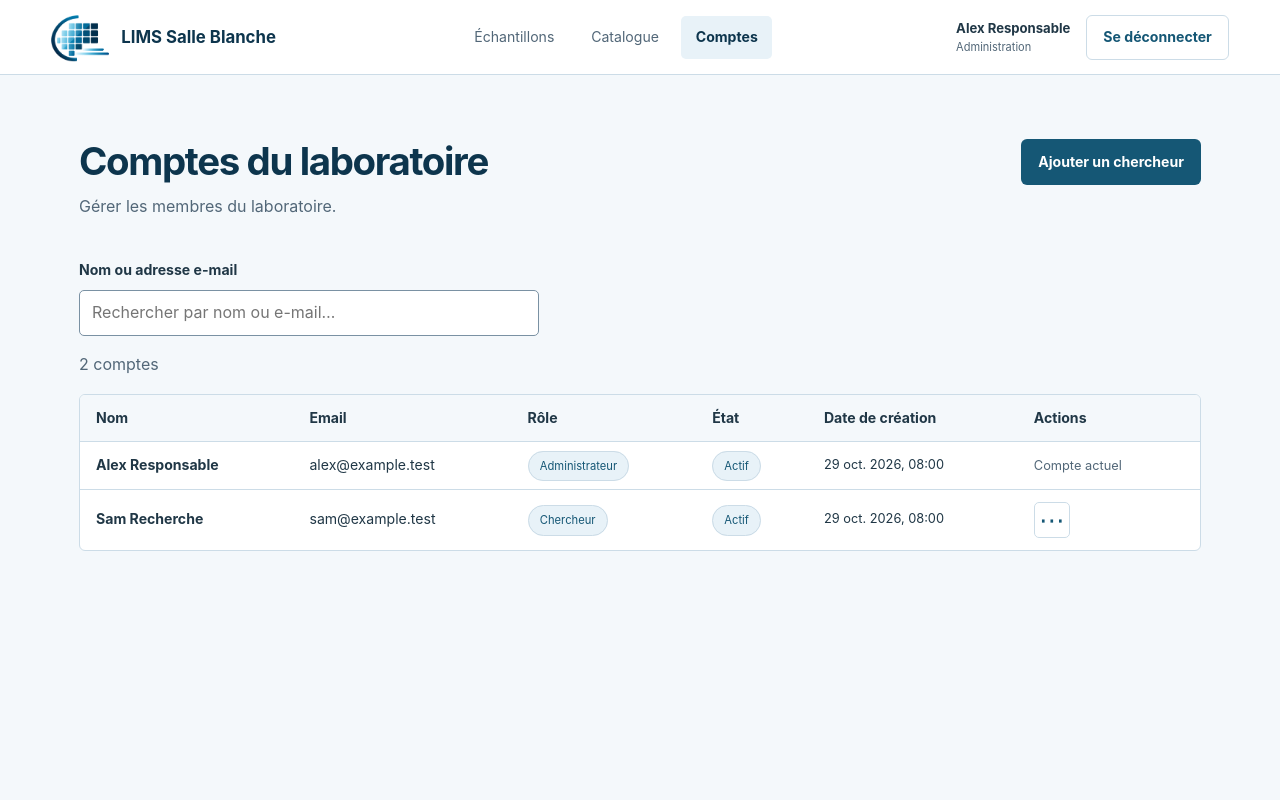
Scenario: Administration des comptes › gère le refus de statut 403 sans modifier la liste
This screenshot has width=1280, height=800.
Step 1. Click the button "⋯" → click(1052, 520), box x1=1034 y1=502 x2=1070 y2=538
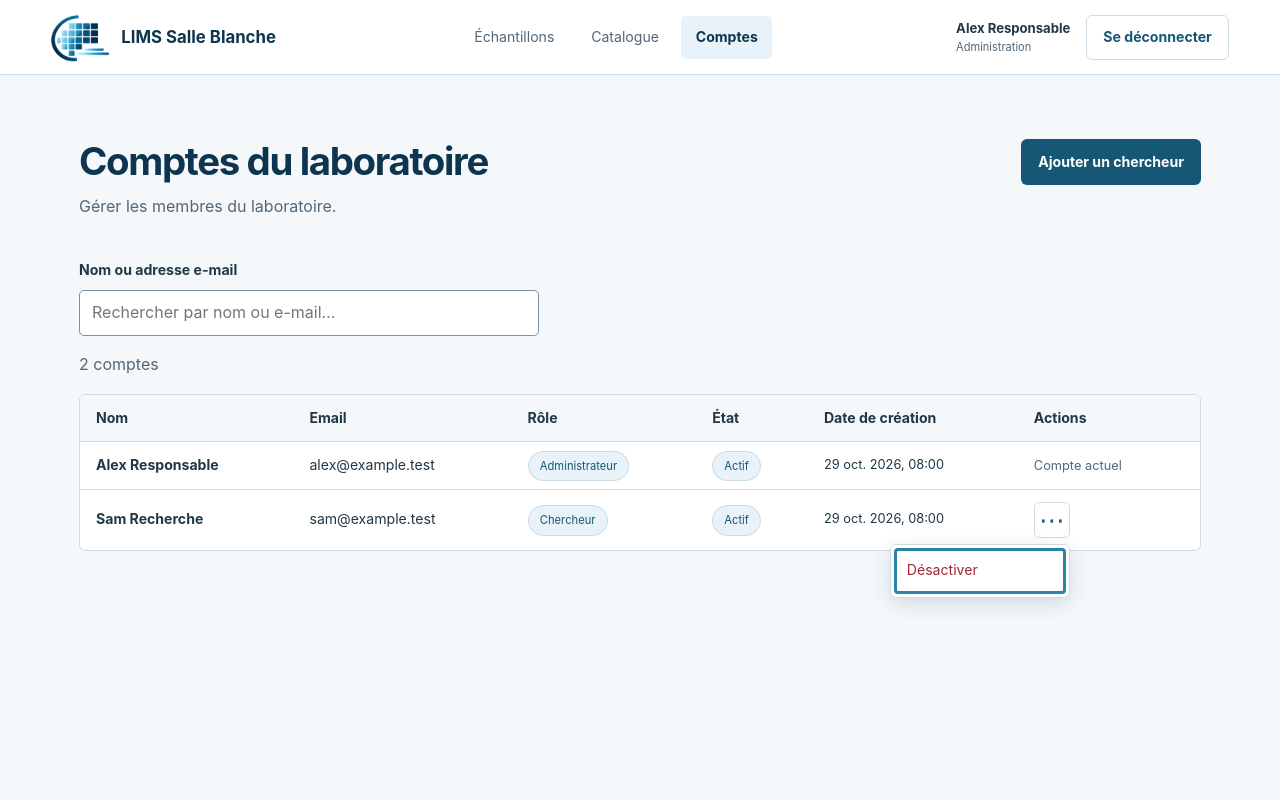
Step 2. Click the menu item "Désactiver" → click(980, 571), box x1=895 y1=549 x2=1065 y2=593
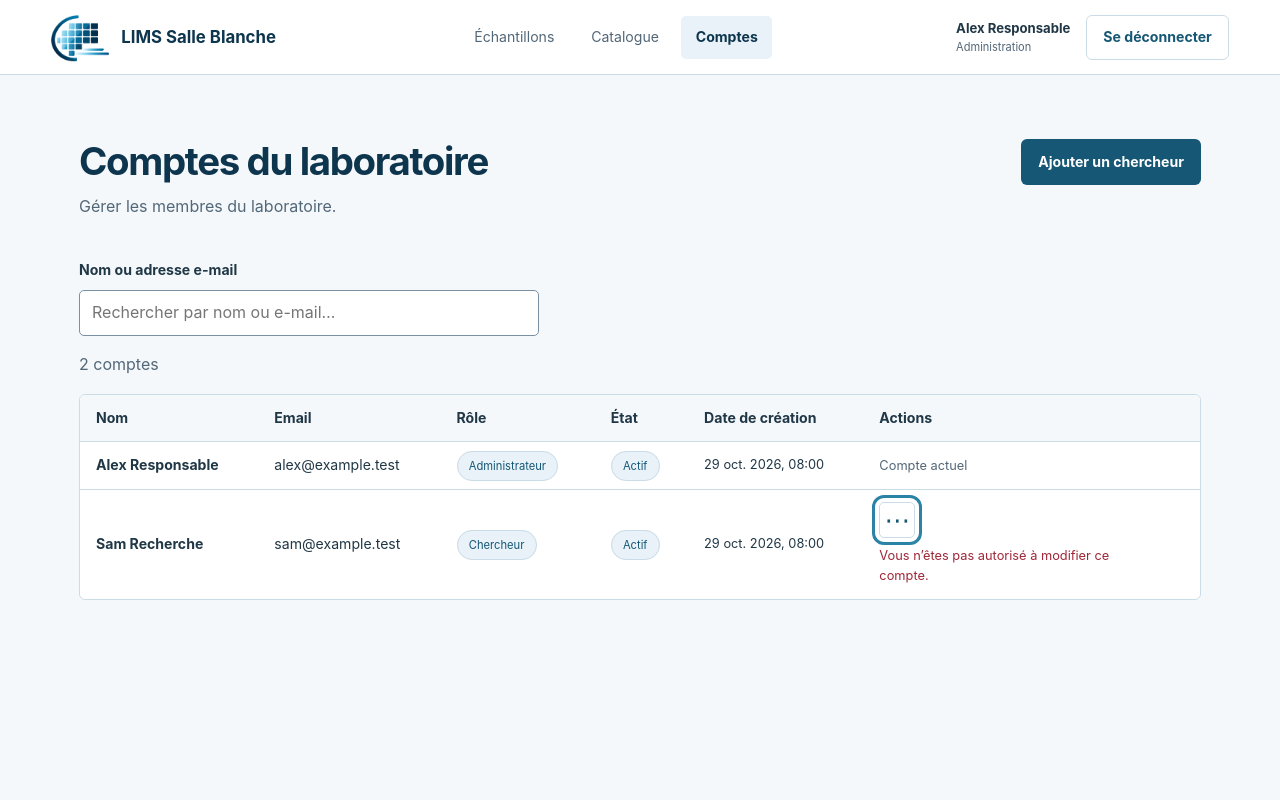
Check: the text "Actif" in the row of "Sam Recherche" is shown, box x1=623 y1=538 x2=648 y2=552
Check: the message "Vous n’êtes pas autorisé à modifier ce compte." is shown, box x1=879 y1=546 x2=1139 y2=586
